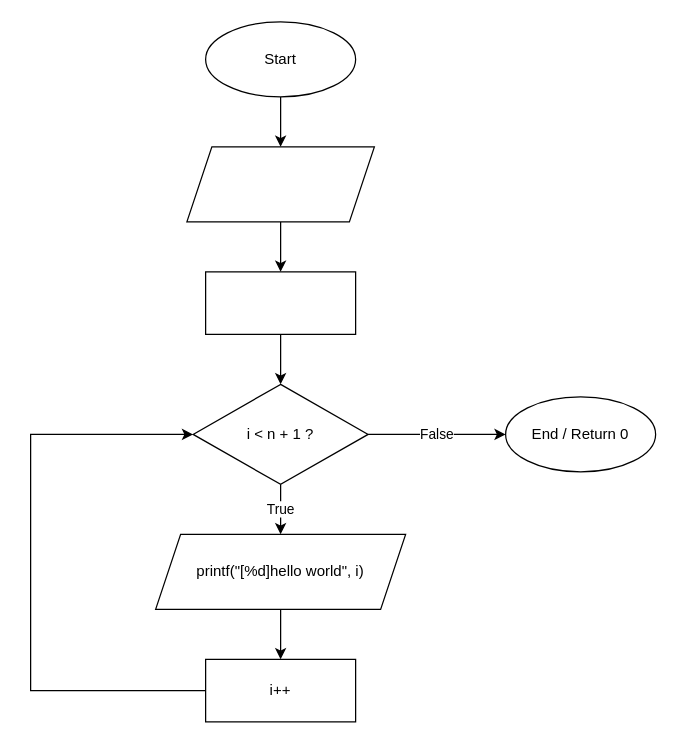
Some shapes in this 678 by 744 pixel diagram are drawn without their labels. Each missing label, with the centre of its shape:
i = 1: pixel 280 302
scanf("%d", &n): pixel 280 184
